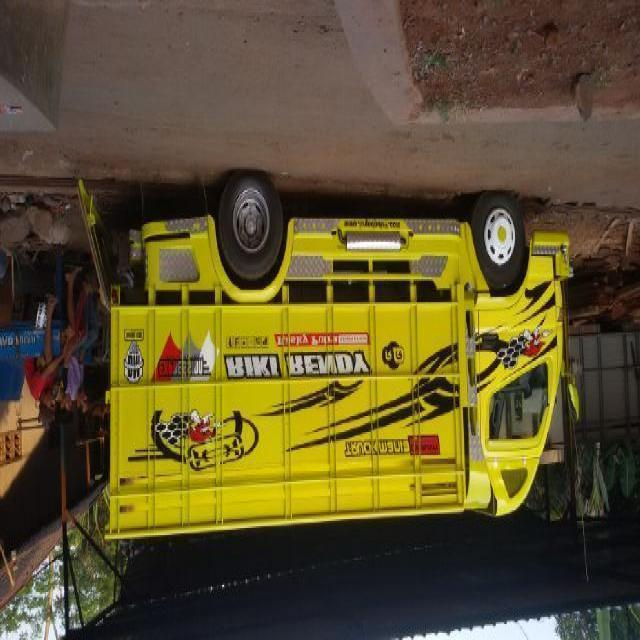truck: (102, 181, 579, 539)
